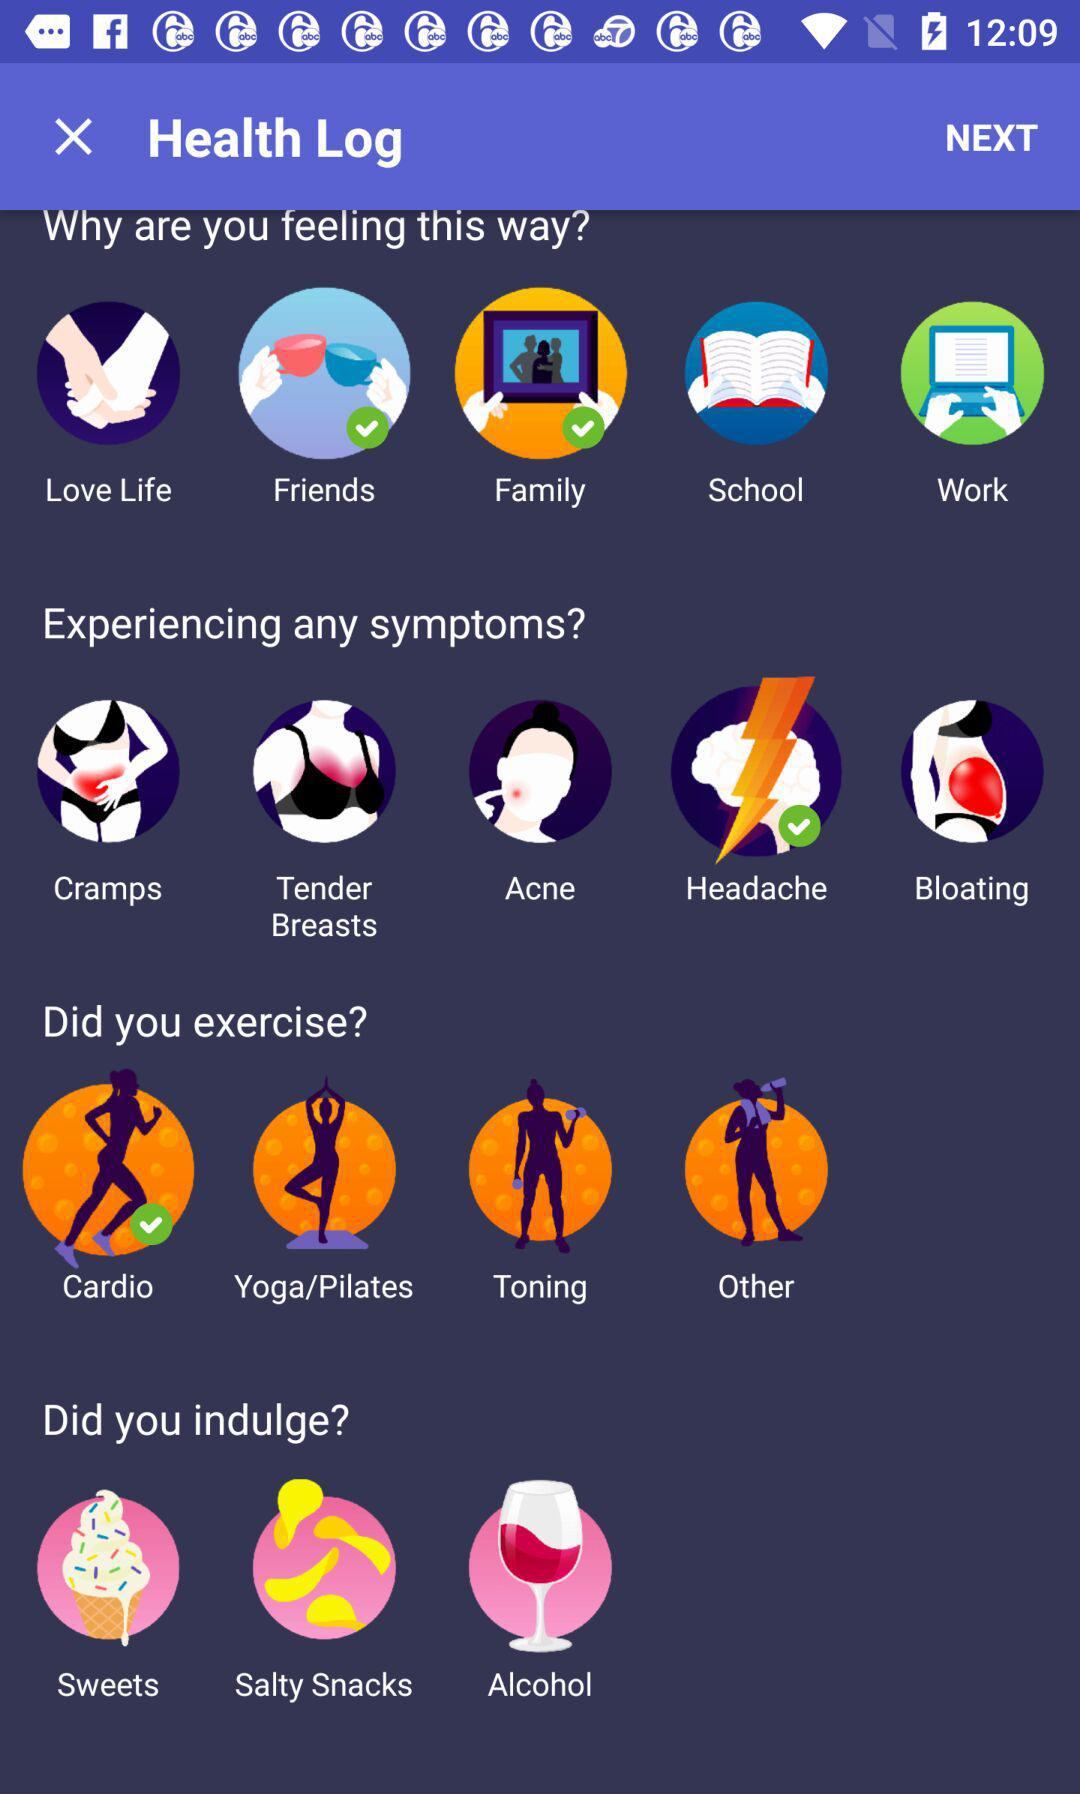Icon: (54, 117, 95, 158)
Image: (20, 1067, 197, 1269), (669, 677, 844, 868), (454, 286, 629, 463), (237, 287, 413, 463), (251, 1071, 398, 1252), (468, 1076, 615, 1256), (468, 1479, 614, 1654), (683, 1076, 830, 1249), (252, 1477, 398, 1642), (36, 1488, 182, 1648), (682, 300, 830, 448), (899, 698, 1045, 846), (252, 698, 398, 846), (468, 698, 614, 844), (36, 698, 182, 844), (899, 301, 1045, 447), (37, 301, 183, 447)
Text: (44, 606, 587, 650), (44, 210, 591, 252), (44, 1003, 369, 1048), (44, 1401, 351, 1445), (149, 117, 404, 170), (272, 874, 379, 939), (234, 1670, 414, 1706), (233, 1272, 415, 1307), (913, 873, 1030, 909), (685, 874, 829, 902), (54, 875, 164, 909), (46, 475, 174, 504), (492, 1272, 588, 1307), (495, 475, 587, 510), (487, 1670, 593, 1698), (56, 1671, 161, 1699), (945, 123, 1039, 154), (707, 475, 805, 505), (274, 475, 375, 504), (63, 1272, 156, 1301), (717, 1272, 796, 1301), (937, 475, 1010, 504), (503, 876, 577, 903)
Toolbar: (1, 65, 1080, 210)
UpperTaskBar: (1, 1, 1080, 64)
